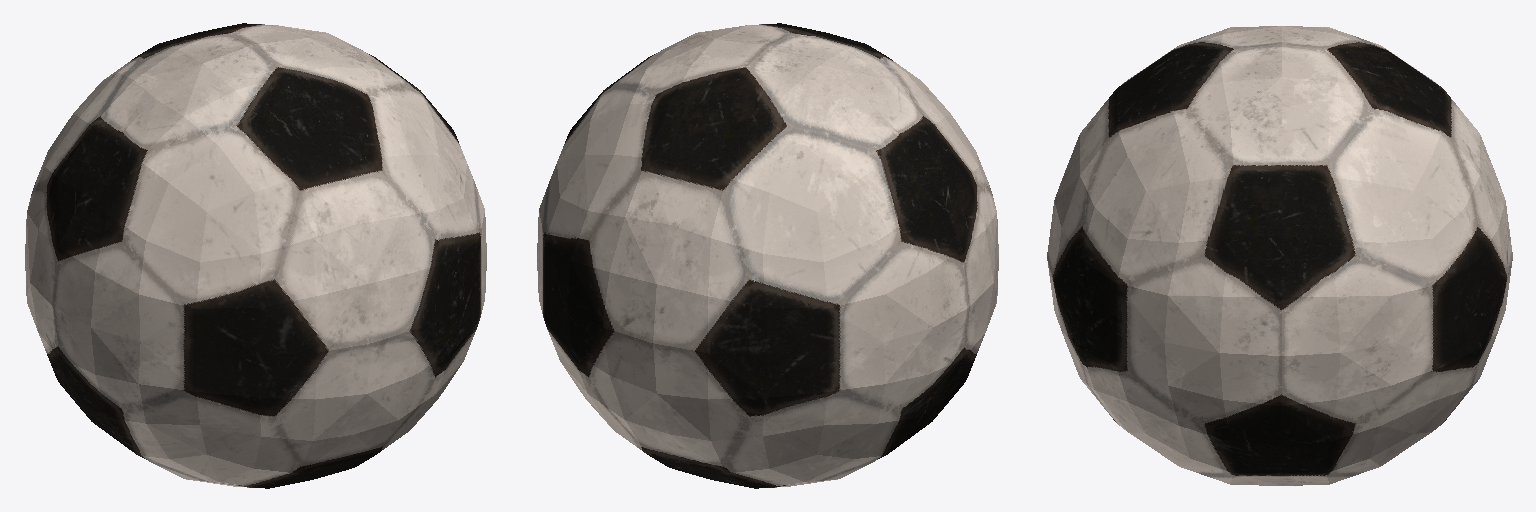
The picture shows the model from 3 angles: view 1: azimuth 30°, elevation 25°; view 2: azimuth 150°, elevation 25°; view 3: azimuth 270°, elevation 25°; orthographic projection.
Parts seen in each view (by area): view 1: object_0; view 2: object_0; view 3: object_0.
Boxes of the visible parts, box(x1,y1,x2,y2) form: object_0: box(25, 23, 486, 488); object_0: box(537, 23, 998, 488); object_0: box(1047, 26, 1512, 485).
Bounding box in the file's own units: 269 × 269 × 269.
1 materials, 1 textured.